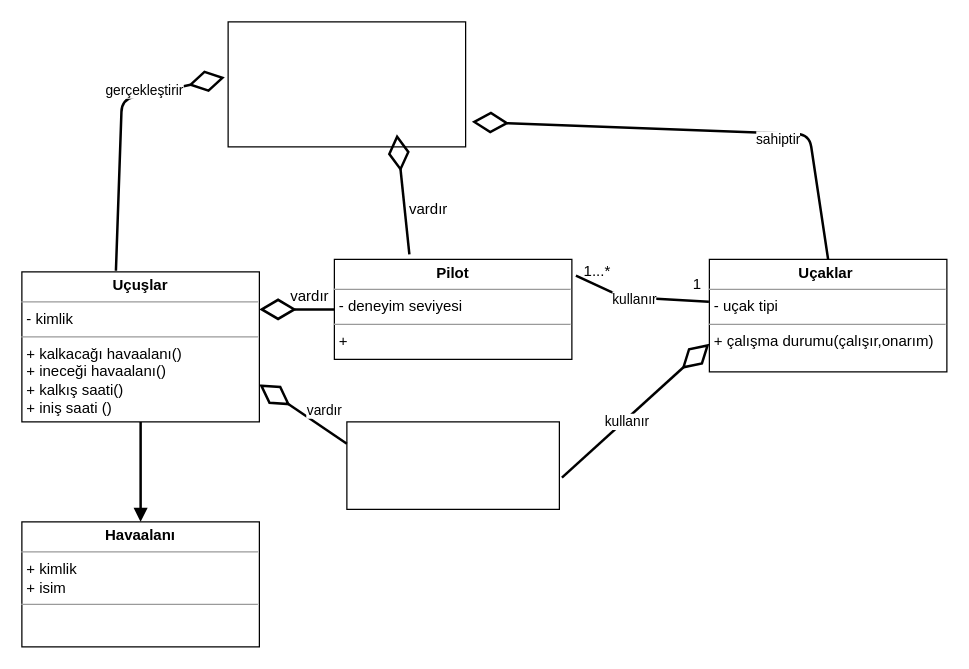
Some shapes in this 969 by 669 pixel diagram are drawn without their labels. Here are the shapes that lost their labels. From the top down, the centre of each, then its label:
(x=346, y=84): Hava Yolu Şirketleri -kimlik
(x=452, y=465): Yardımcı Pilot
